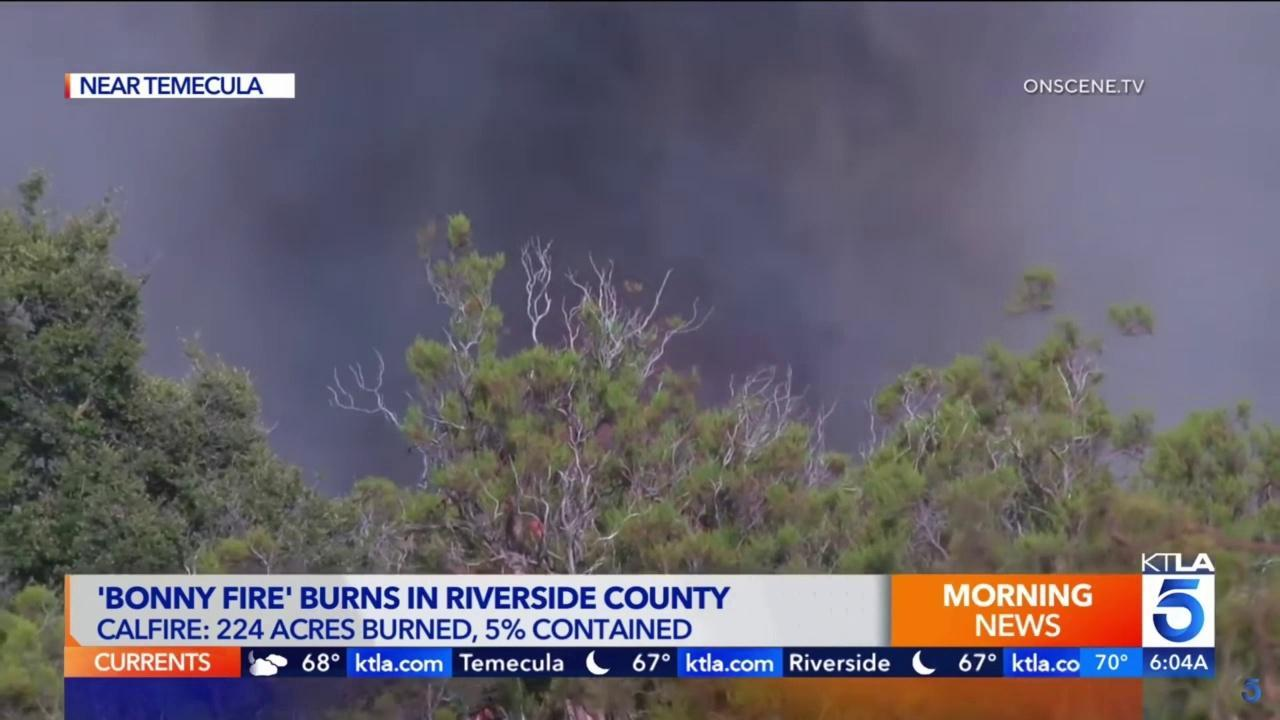fire: (522, 518, 552, 546), (465, 708, 492, 720)
smoke: (166, 3, 1071, 506)
